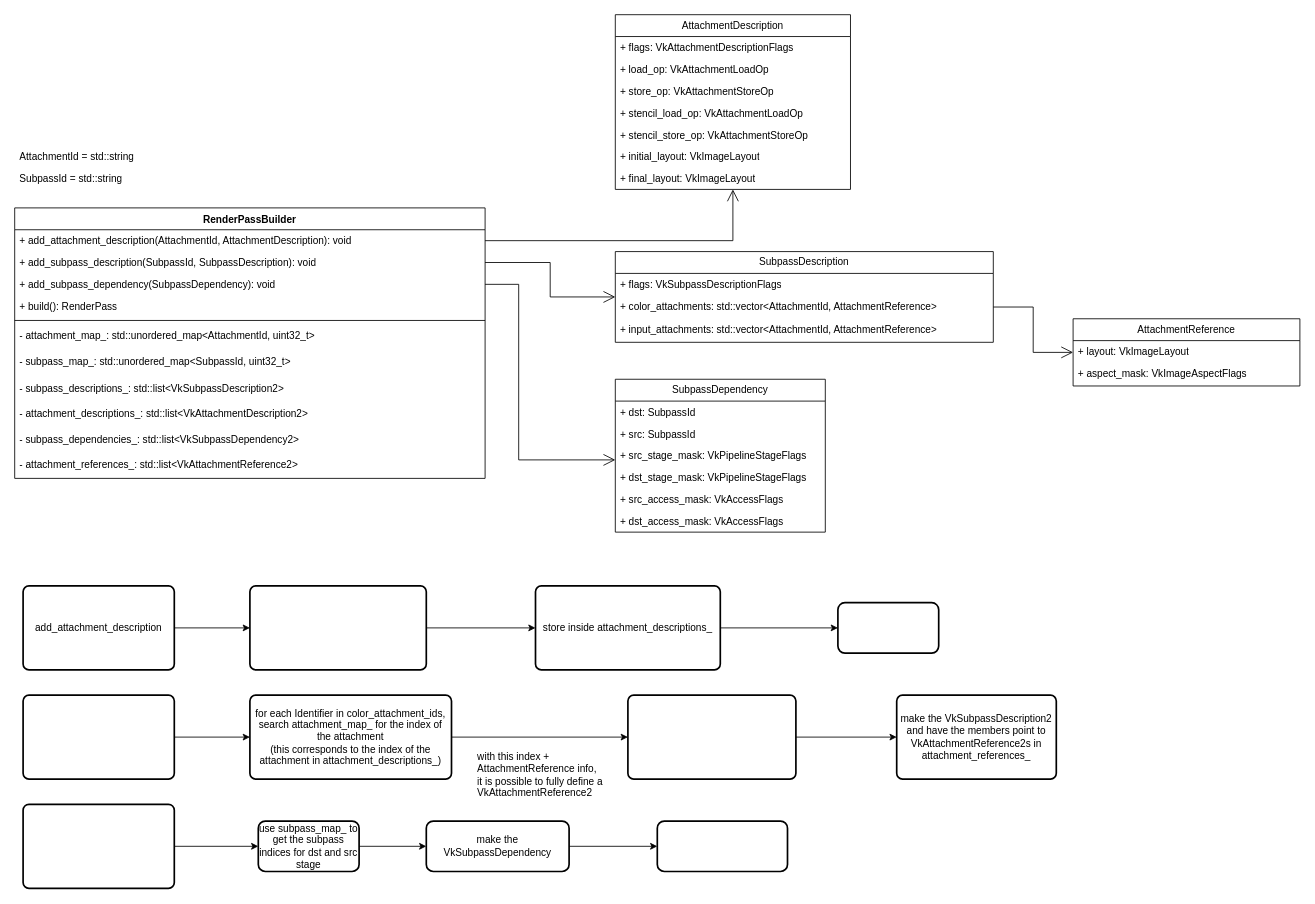
The diagram is 1315 pixels wide and 904 high, and some of its shapes have lost their labels. The shapes that lost their labels are listed below. From the top down, each one's centre as x and y in pixels, then its label:
At [338,627]: "make VkAttachmentDescription2".
At [888,627]: "add entry to attachment_map_".
At [98,737]: "add_subpass_description".
At [711,737]: "make the VkAttachmentReference2 and store it in attachment_references_".
At [98,846]: "add_subpass_dependency".
At [722,846]: "store in subpass_dependencies_".
